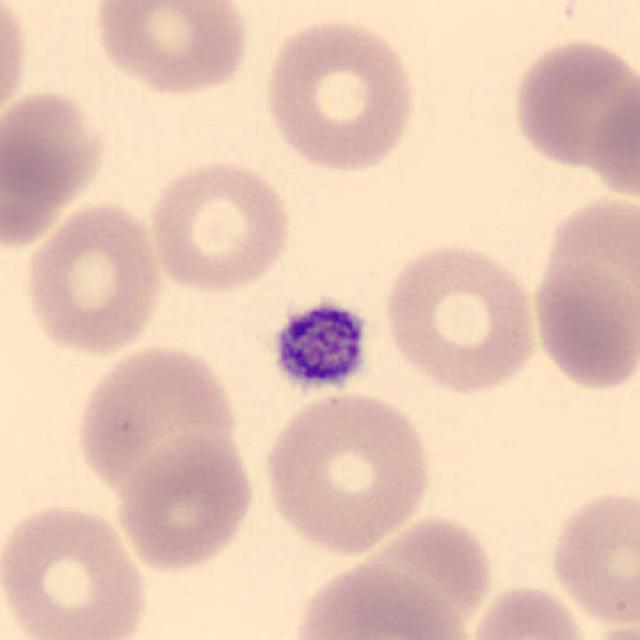Platelets: (267, 298, 373, 397)
RBC: (258, 388, 436, 559), (70, 340, 246, 506), (259, 12, 422, 176), (379, 238, 544, 397), (524, 188, 640, 398), (20, 197, 167, 358), (0, 499, 151, 640), (144, 155, 295, 295), (112, 432, 258, 575), (0, 85, 112, 250), (506, 34, 636, 176), (89, 0, 254, 99), (286, 557, 475, 640), (364, 515, 492, 625), (544, 485, 638, 628), (586, 58, 640, 209), (466, 582, 592, 640), (0, 2, 32, 130), (579, 619, 640, 640)
